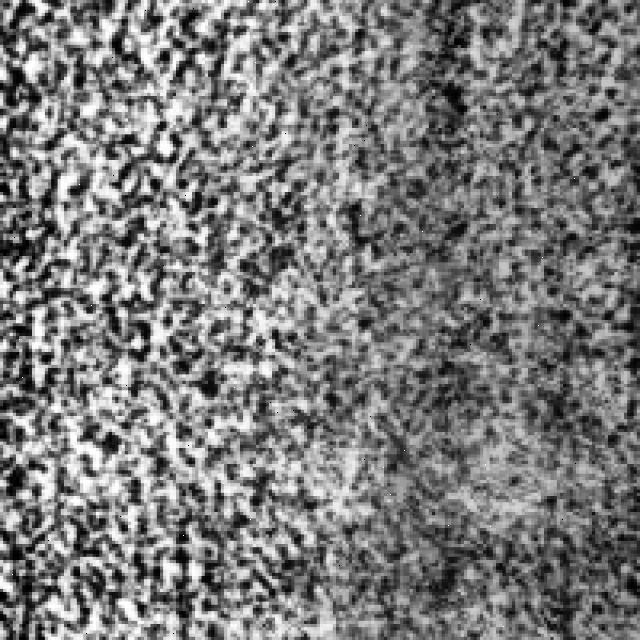Rolled_in_Scale: (0, 0, 515, 630)
